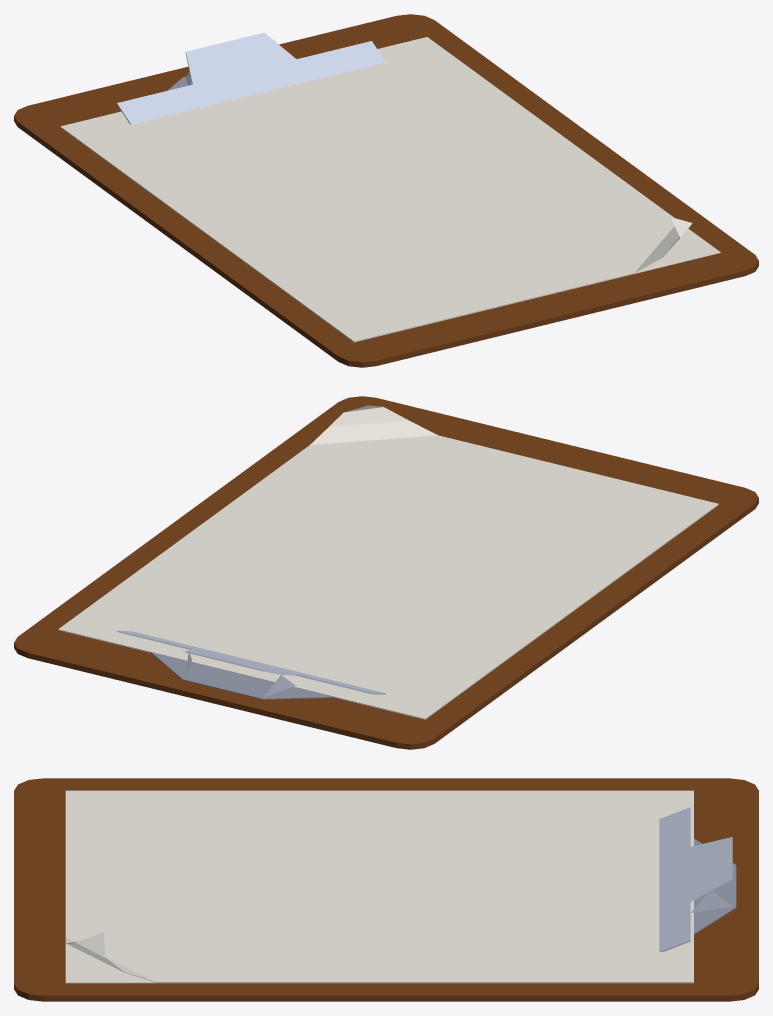
The model's file is clipboard.fbx.
3 renders of one model, top to bottom at view 1: azimuth 30°, elevation 25°; view 2: azimuth 150°, elevation 25°; view 3: azimuth 270°, elevation 25°, orthographic. The views are drawn at different scales.
Parts seen in each view (by area): view 1: paper.001, clipboard, clip, paper; view 2: paper.001, clipboard, clip_basis, clip, paper; view 3: paper.001, clipboard, clip, paper, clip_basis.
Part boxes in pixels (box(x1,y1,x2,y2)): paper.001: box(60, 37, 692, 341); clipboard: box(14, 14, 758, 367); clip: box(117, 32, 385, 124); paper: box(60, 127, 720, 342); paper.001: box(58, 405, 718, 719); clipboard: box(14, 396, 758, 749); clip_basis: box(151, 652, 334, 699); clip: box(117, 630, 385, 696); paper: box(58, 504, 718, 719); paper.001: box(65, 790, 693, 982); clipboard: box(14, 778, 758, 1001); clip: box(659, 807, 732, 951); paper: box(65, 938, 693, 983); clip_basis: box(694, 838, 736, 934).
Bounding box in the file's own units: 202 × 17.01 × 292.
